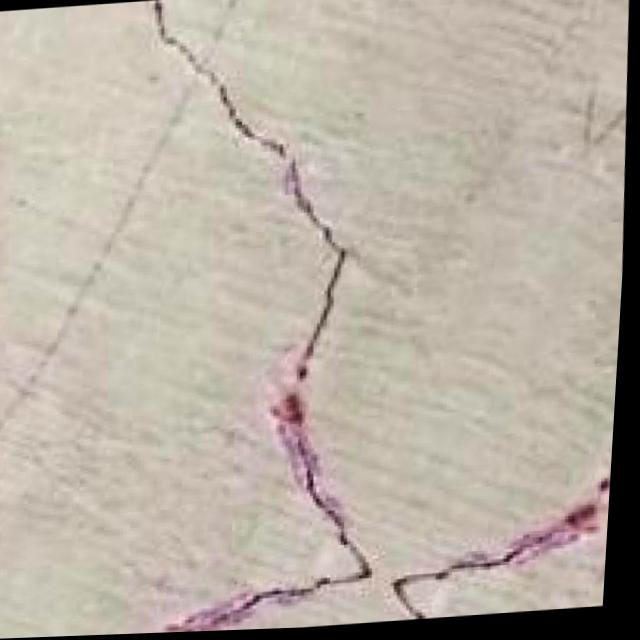Crack: (89, 0, 411, 637), (378, 462, 618, 625)
